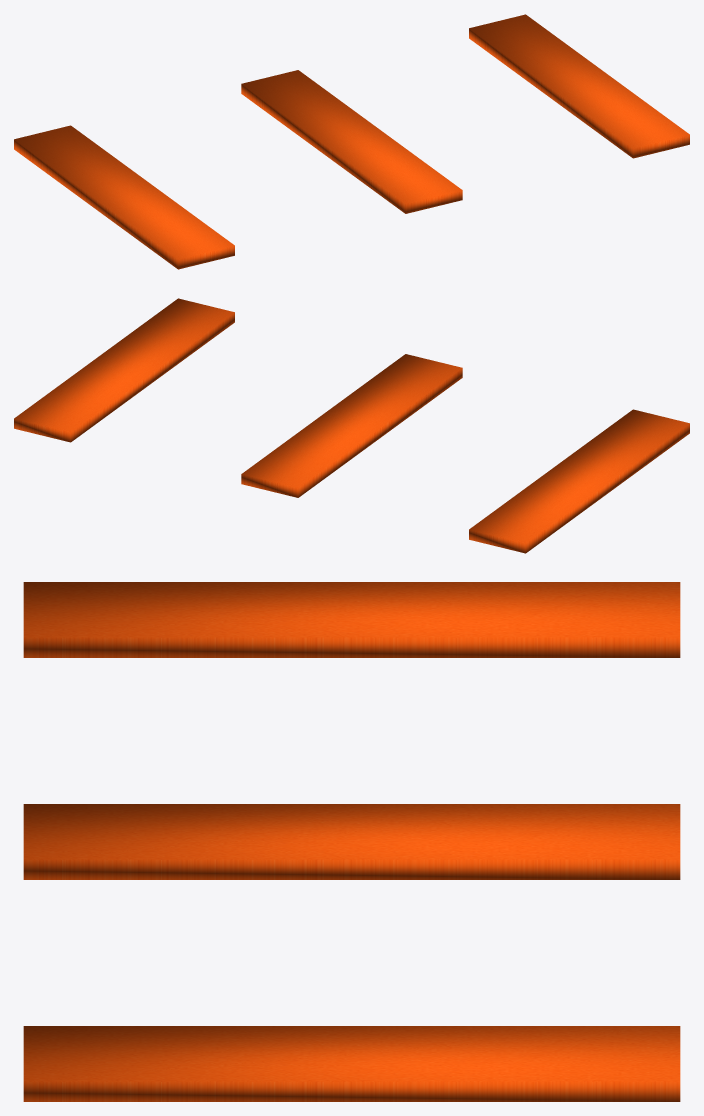
Rendered from 089_L101_Internal_Via_Fault_Overlay.obj.
3 renders of one model, top to bottom at view 1: azimuth 30°, elevation 25°; view 2: azimuth 150°, elevation 25°; view 3: azimuth 270°, elevation 25°, orthographic. The views are drawn at different scales.
Visible parts, largest first — view 1: Fault_Visual_Chip_01_1__PSMAT__Fault_Amber, Fault_Visual_Chip_02_2__PSMAT__Fault_Amber, Fault_Visual_Chip_00_0__PSMAT__Fault_Amber; view 2: Fault_Visual_Chip_01_1__PSMAT__Fault_Amber, Fault_Visual_Chip_02_2__PSMAT__Fault_Amber, Fault_Visual_Chip_00_0__PSMAT__Fault_Amber; view 3: Fault_Visual_Chip_02_2__PSMAT__Fault_Amber, Fault_Visual_Chip_01_1__PSMAT__Fault_Amber, Fault_Visual_Chip_00_0__PSMAT__Fault_Amber.
Part boxes in pixels (<box>): Fault_Visual_Chip_01_1__PSMAT__Fault_Amber: <box>241,70,462,213</box>; Fault_Visual_Chip_02_2__PSMAT__Fault_Amber: <box>469,14,689,158</box>; Fault_Visual_Chip_00_0__PSMAT__Fault_Amber: <box>14,125,234,269</box>; Fault_Visual_Chip_01_1__PSMAT__Fault_Amber: <box>241,354,462,497</box>; Fault_Visual_Chip_02_2__PSMAT__Fault_Amber: <box>14,298,234,442</box>; Fault_Visual_Chip_00_0__PSMAT__Fault_Amber: <box>469,409,689,553</box>; Fault_Visual_Chip_02_2__PSMAT__Fault_Amber: <box>23,1026,680,1101</box>; Fault_Visual_Chip_01_1__PSMAT__Fault_Amber: <box>23,804,680,879</box>; Fault_Visual_Chip_00_0__PSMAT__Fault_Amber: <box>23,582,680,657</box>.
Bounding box in the file's own units: 0.009 × 0.00017 × 0.005.
